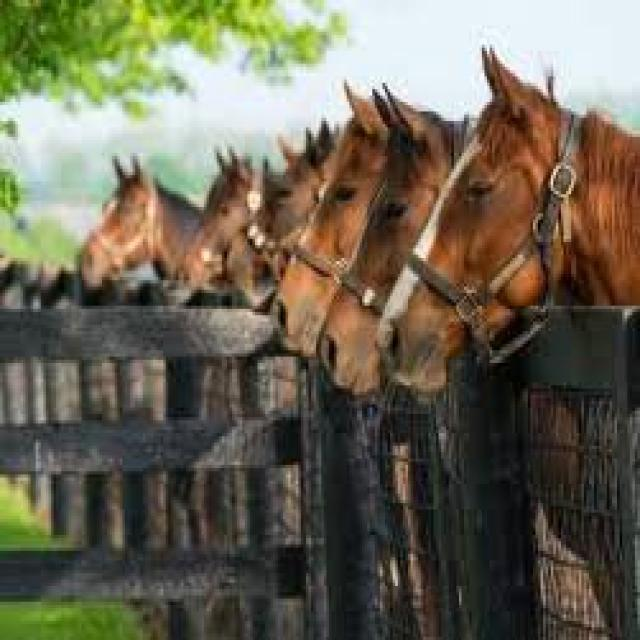horse: (377, 48, 637, 388), (319, 89, 464, 392), (275, 86, 385, 353), (79, 159, 199, 283), (362, 290, 372, 299)
